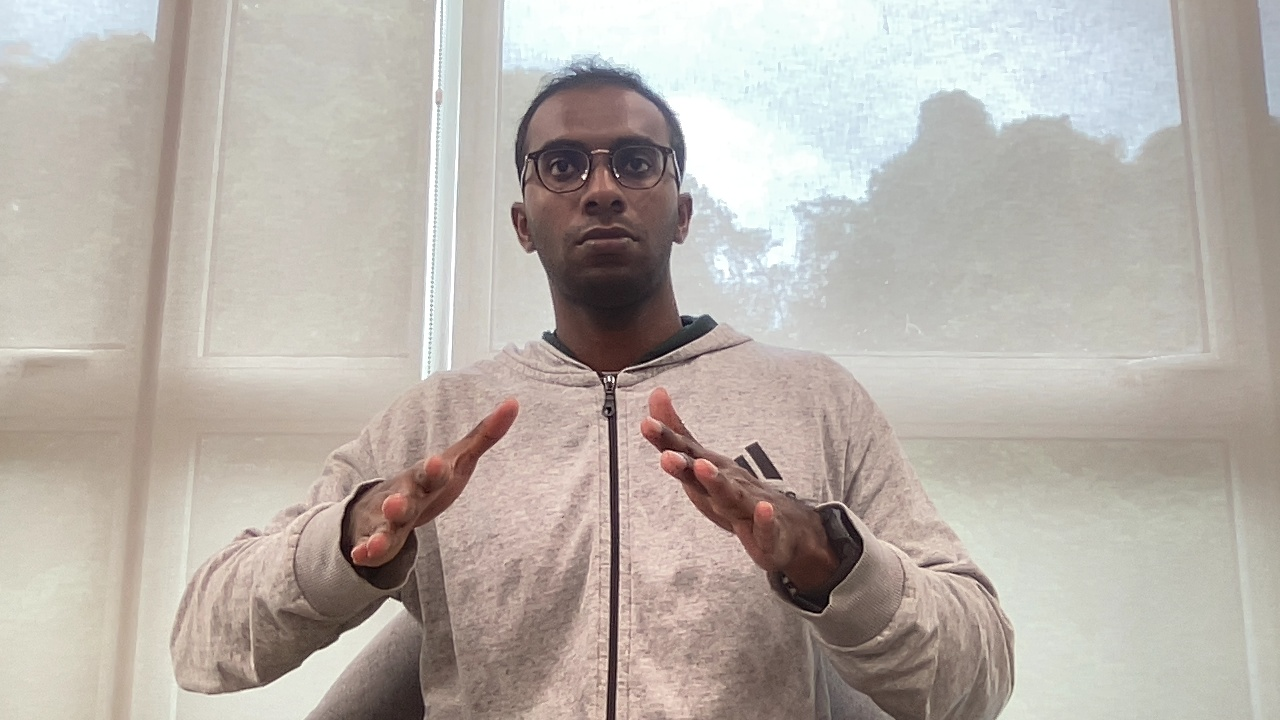finish: (348, 382, 822, 579)
